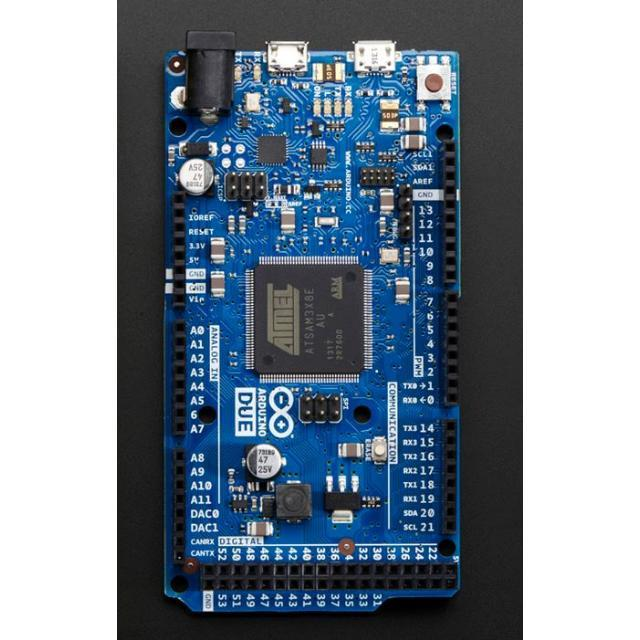Arduino-Due: (165, 33, 460, 613)
